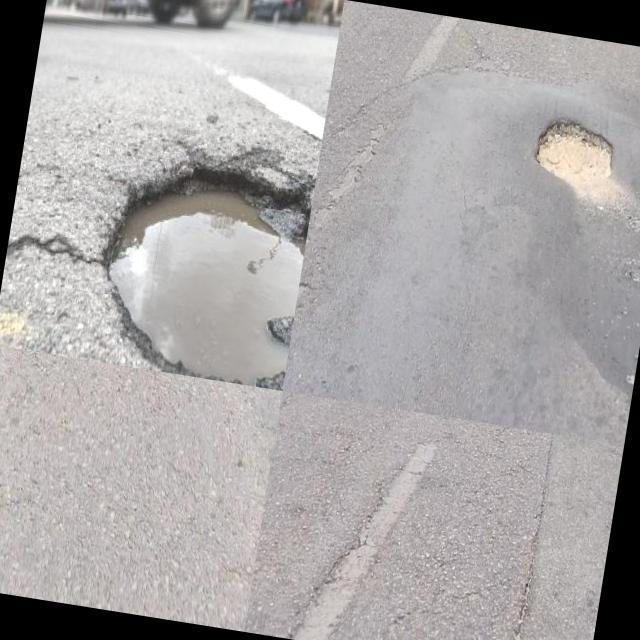Pothole: (106, 161, 313, 381), (533, 114, 613, 191)
